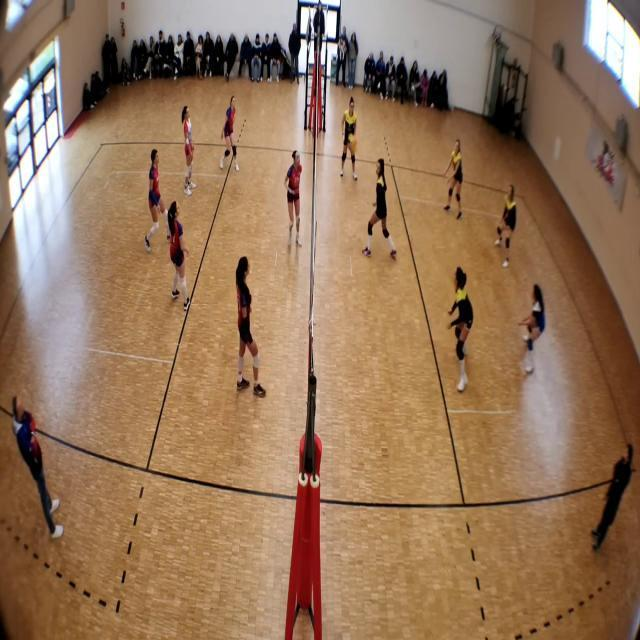volleyball: (348, 136, 358, 152)
